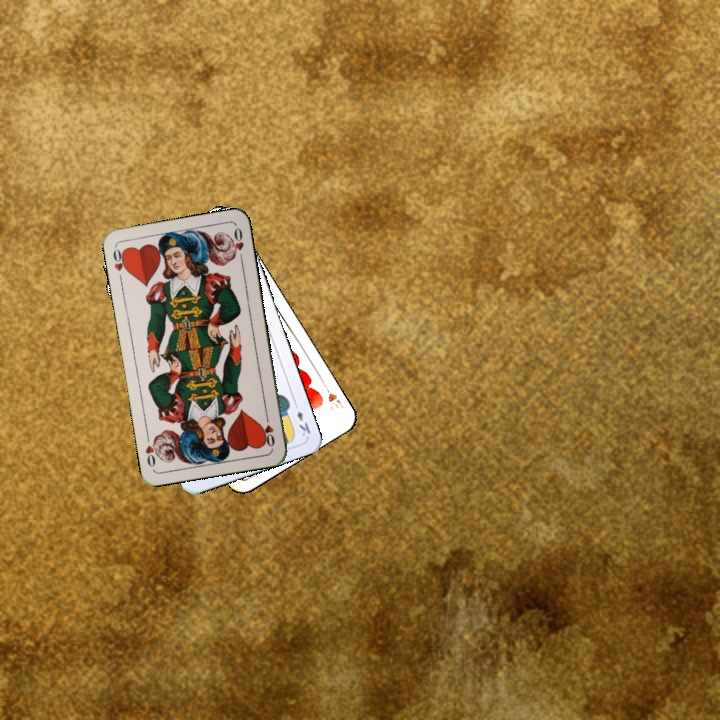EK: (290, 399, 313, 439)
H10: (319, 379, 347, 415)
HO: (109, 244, 131, 284), (259, 410, 277, 449)
